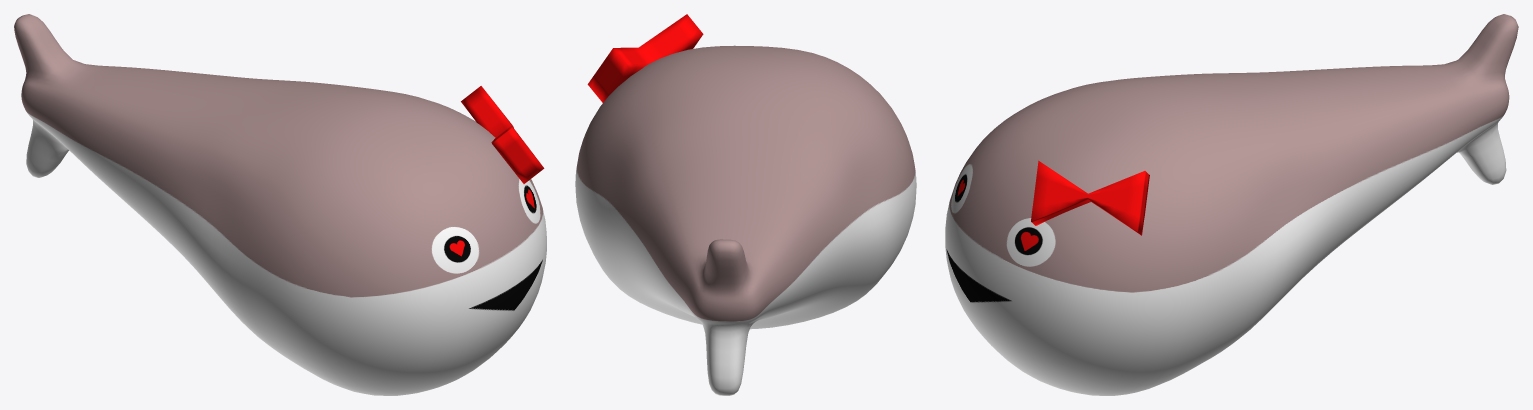
The model's file is basumes.fbx.
3 views of the same model, side by side, from view 1: azimuth 30°, elevation 25°; view 2: azimuth 150°, elevation 25°; view 3: azimuth 270°, elevation 25° (orthographic). The views are drawn at different scales.
Parts seen in each view (by area): view 1: pCube3; view 2: pCube3; view 3: pCube3.
Part boxes in pixels (left/top/right/bottom): pCube3: left=14, top=14, right=546, bottom=395; pCube3: left=575, top=14, right=916, bottom=395; pCube3: left=945, top=14, right=1518, bottom=395.
Bounding box in the file's own units: 35.51 × 26.52 × 51.39.
1 material, 1 textured.
